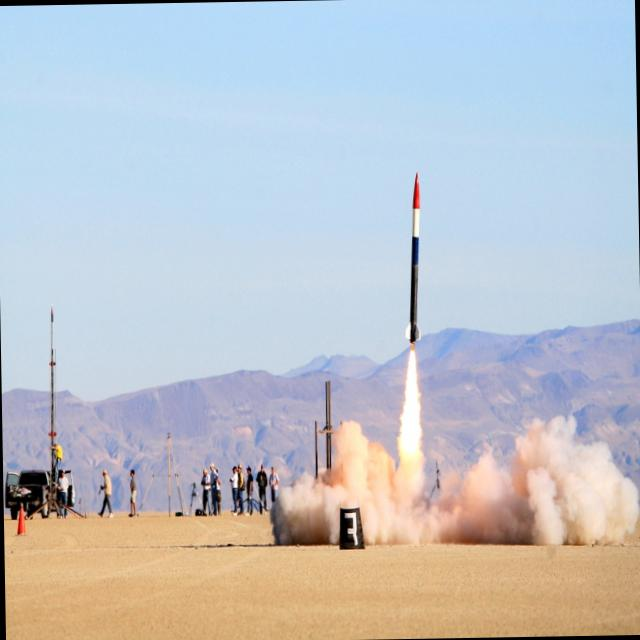rocket: (391, 165, 429, 376)
